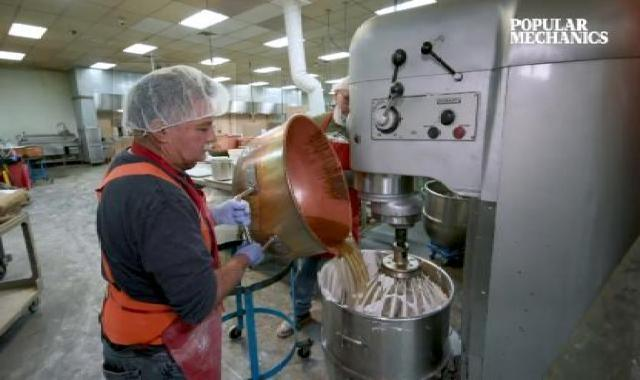apron: (200, 197, 260, 231), (226, 234, 276, 271)
gloves: (113, 63, 236, 135)
no_hairnet: (162, 122, 228, 164)
